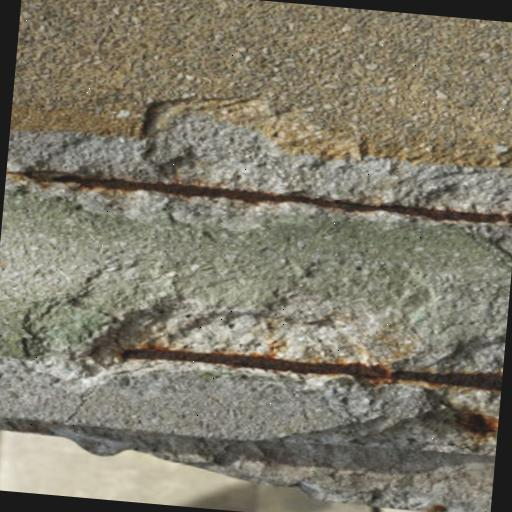spalling: (18, 278, 508, 442), (11, 121, 512, 276)
